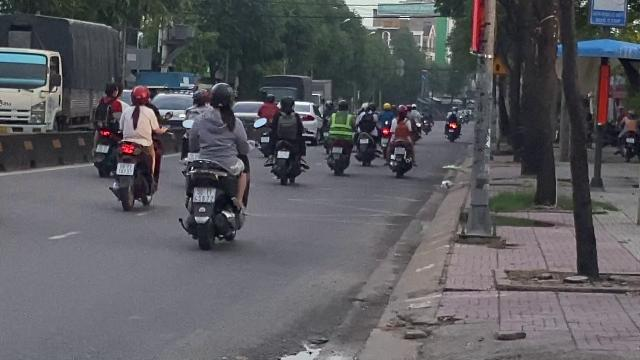helmet: (209, 82, 235, 110), (129, 85, 149, 104), (192, 88, 208, 106)
licenseplate: (192, 188, 214, 202), (116, 162, 134, 174)
motorcyclist: (175, 80, 253, 250), (110, 82, 162, 210)
